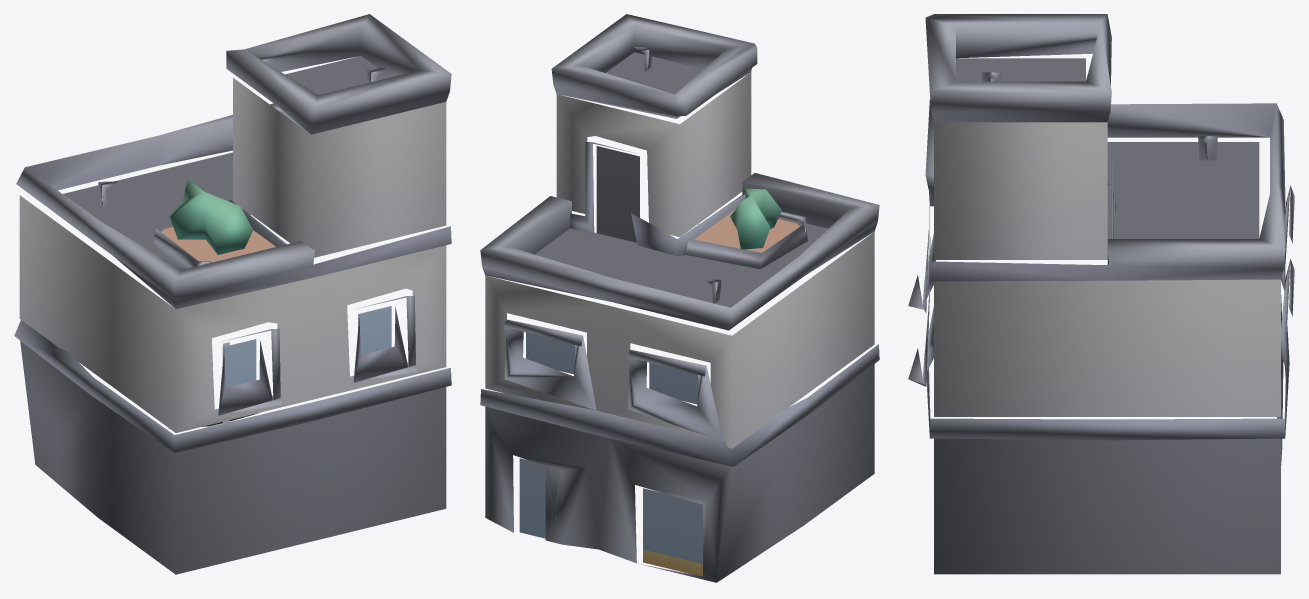
The picture shows the model from 3 angles, left to right: view 1: azimuth 30°, elevation 25°; view 2: azimuth 150°, elevation 25°; view 3: azimuth 270°, elevation 25°; orthographic projection. The views are drawn at different scales.
Bounding box in the file's own units: 6.72 × 10.24 × 7.14.
